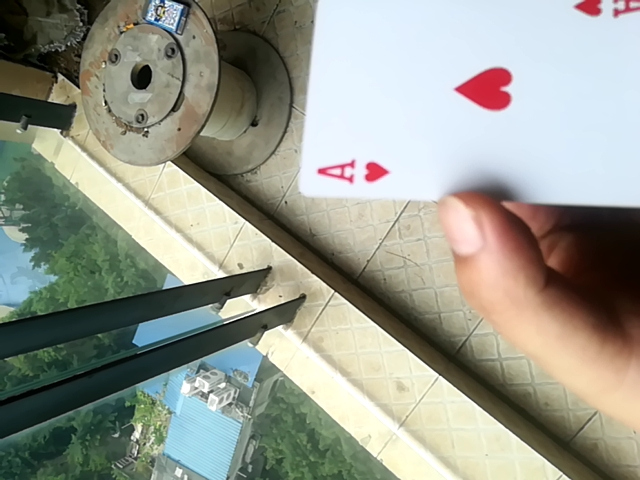hx a: (299, 2, 637, 214)
